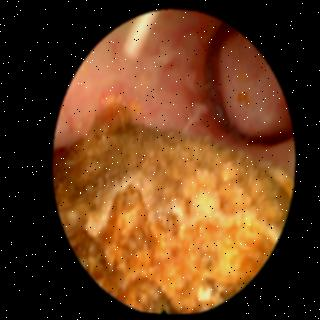stone: (52, 100, 288, 314)
tissue: (56, 16, 287, 164)
